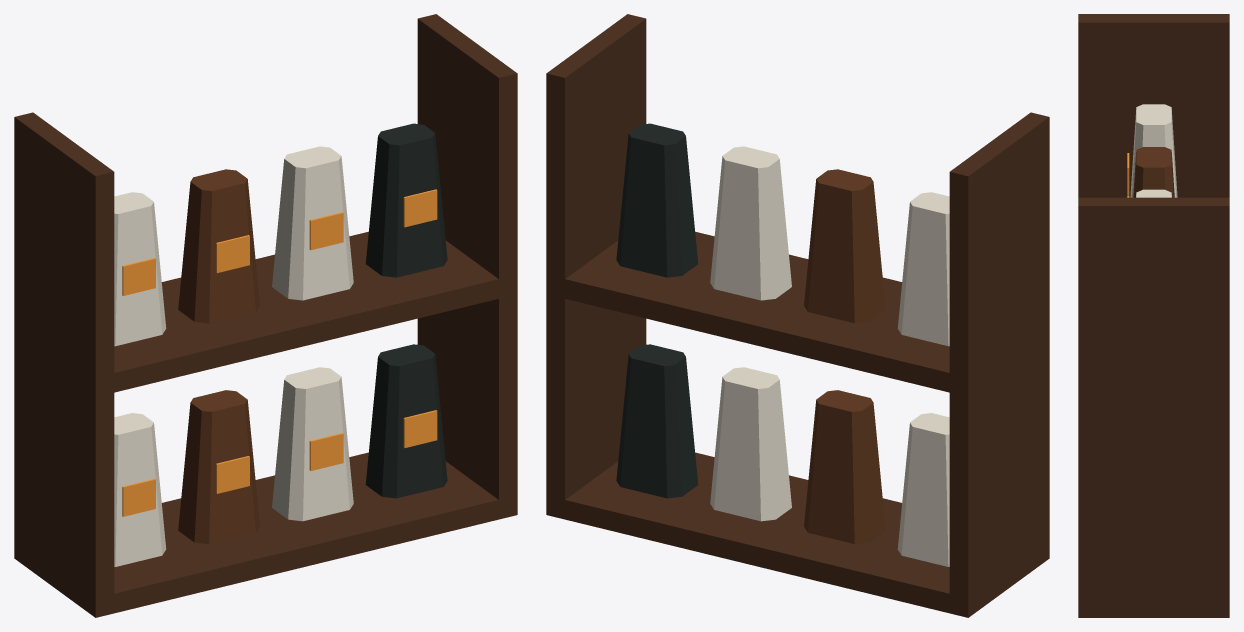
Rendered from coffee_bag_shelf.obj.
The picture shows the model from 3 angles, left to right: view 1: azimuth 30°, elevation 25°; view 2: azimuth 150°, elevation 25°; view 3: azimuth 270°, elevation 25°; orthographic projection. The views are drawn at different scales.
Visible parts, largest first — view 1: coffee_bag_shelf; view 2: coffee_bag_shelf; view 3: coffee_bag_shelf.
Part boxes in pixels (x1=…): coffee_bag_shelf: x1=14, y1=14, x2=517, y2=617; coffee_bag_shelf: x1=546, y1=14, x2=1049, y2=617; coffee_bag_shelf: x1=1078, y1=14, x2=1229, y2=617.
Size of the model in its own units: 0.9 by 0.9 by 0.3.
